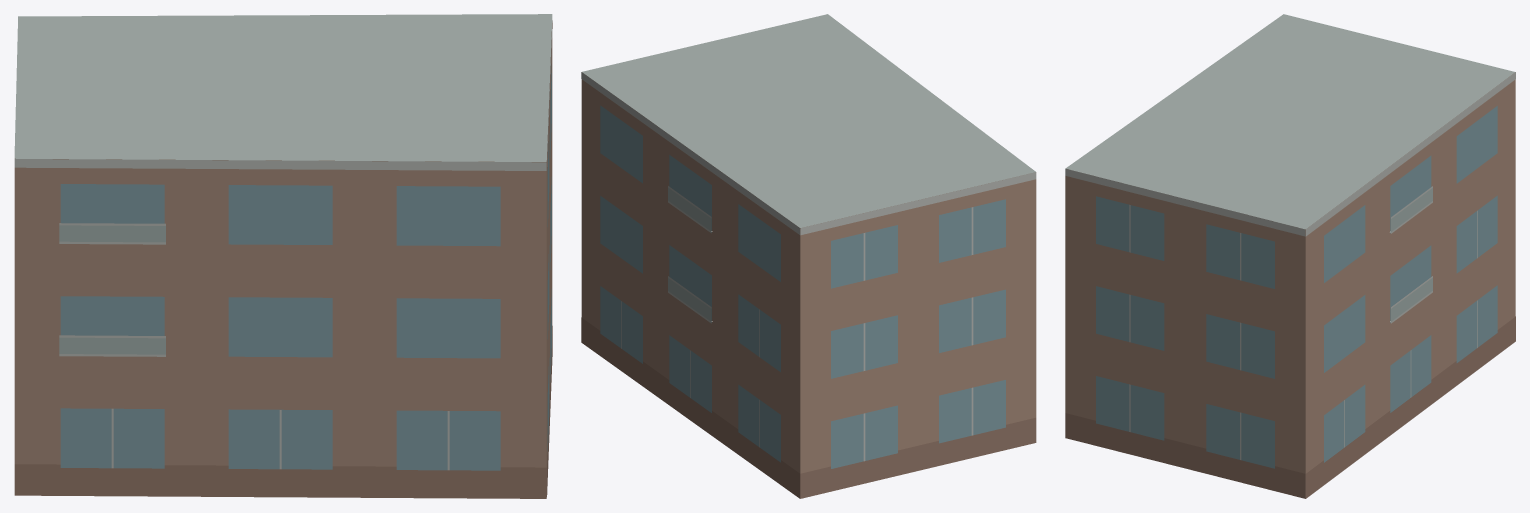
Rendered from survey-upis-33018583.glb.
3 renders of one model, left to right at view 1: azimuth 30°, elevation 25°; view 2: azimuth 150°, elevation 25°; view 3: azimuth 270°, elevation 25°, orthographic. The views are drawn at different scales.
Parts seen in each view (by area): view 1: survey-upis-33018583.tmp; view 2: survey-upis-33018583.tmp; view 3: survey-upis-33018583.tmp.
Part boxes in pixels (left/top/right/bottom): survey-upis-33018583.tmp: left=14, top=14, right=552, bottom=498; survey-upis-33018583.tmp: left=581, top=14, right=1036, bottom=498; survey-upis-33018583.tmp: left=1065, top=14, right=1515, bottom=498.
Size of the model in its own units: 15.7 by 9.15 by 13.87.
